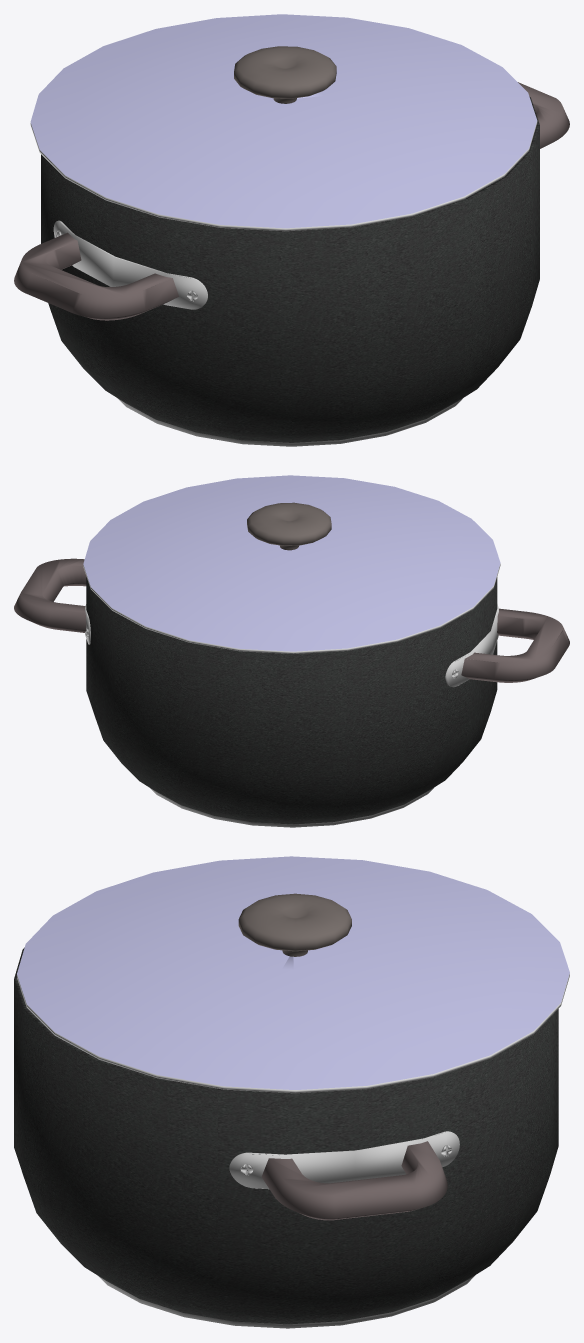
Rendered from potFbx.fbx.
3 renders of one model, top to bottom at view 1: azimuth 30°, elevation 25°; view 2: azimuth 150°, elevation 25°; view 3: azimuth 270°, elevation 25°, orthographic. The views are drawn at different scales.
Visible parts, largest first — view 1: Group4, topp1, Group6, Group7, Group2, Group5, Group8; view 2: Group4, topp1, Group6, Group8, Group2, Group5, Group7; view 3: Group4, topp1, Group8, Group9, Group2, Group5.
Part boxes in pixels (<box>): Group4: <box>41,96,539,442</box>; topp1: <box>30,14,537,228</box>; Group6: <box>14,232,178,320</box>; Group7: <box>53,220,207,309</box>; Group2: <box>30,121,537,231</box>; Group5: <box>118,398,462,446</box>; Group8: <box>518,82,569,148</box>; Group4: <box>86,576,497,824</box>; topp1: <box>83,475,500,651</box>; Group6: <box>461,608,569,682</box>; Group8: <box>14,558,86,632</box>; Group2: <box>83,563,500,653</box>; Group5: <box>150,788,433,827</box>; Group7: <box>445,604,498,687</box>; Group4: <box>14,947,558,1324</box>; topp1: <box>17,856,569,1089</box>; Group8: <box>261,1141,447,1220</box>; Group9: <box>229,1131,459,1189</box>; Group2: <box>17,973,569,1093</box>; Group5: <box>98,1275,475,1328</box>.
Size of the model in its own units: 371 by 182 by 279.
